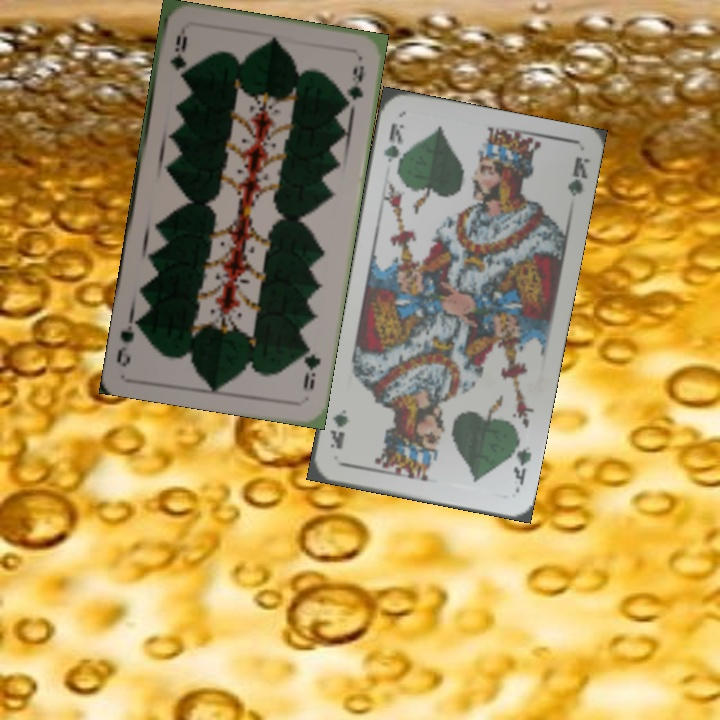G9: (299, 340, 323, 393), (166, 30, 190, 73)
GK: (379, 119, 407, 175), (507, 434, 534, 488)
